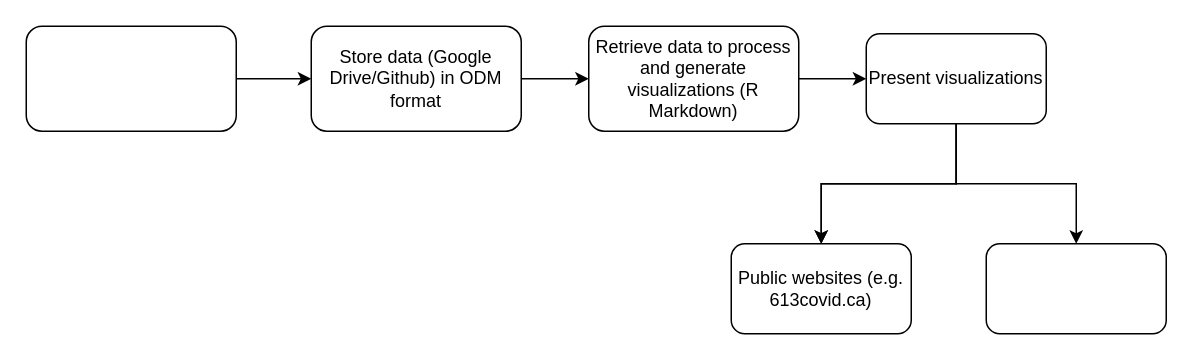
The diagram is 1193 pixels wide and 360 high, and some of its shapes have lost their labels. Each missing label, with the centre of its shape:
"Collect sample data" belongs at (x=130, y=78).
"Internal reports (e.g. NML emails)" belongs at (x=1075, y=288).
